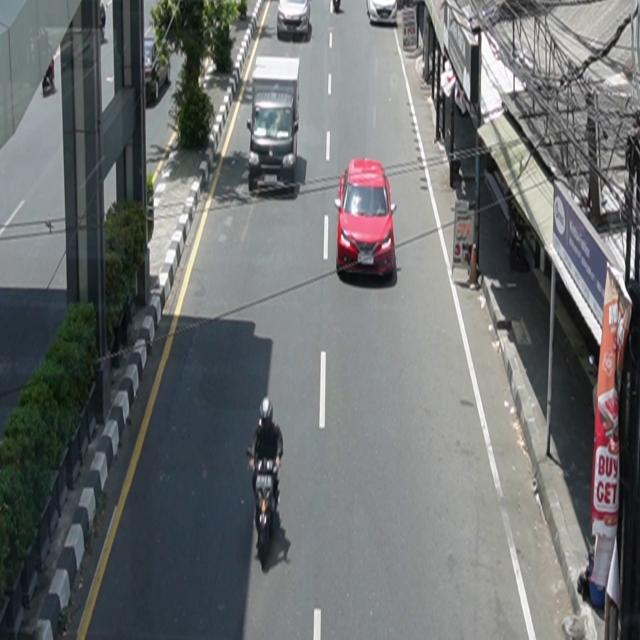car: (335, 158, 398, 280), (277, 1, 311, 41), (366, 1, 398, 26)
truck: (247, 56, 301, 193)
